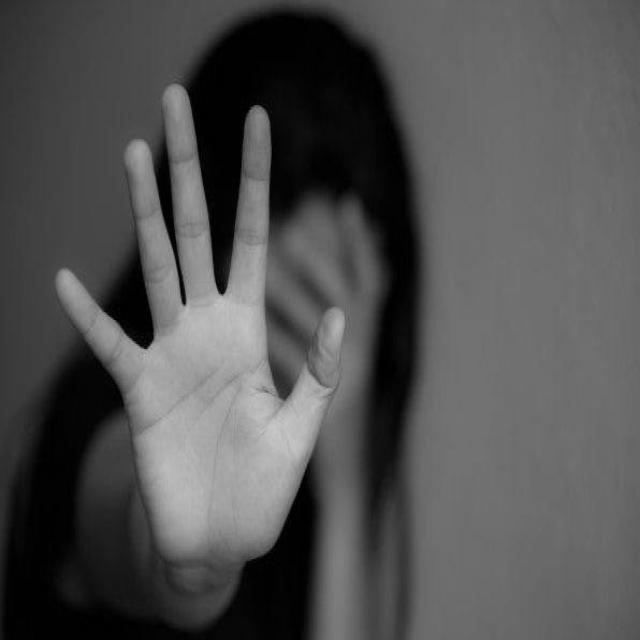stop: (52, 77, 349, 582)
